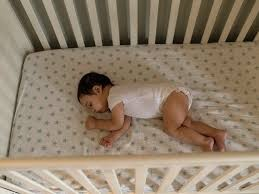baby: (77, 72, 226, 150)
crib: (28, 66, 253, 157)
